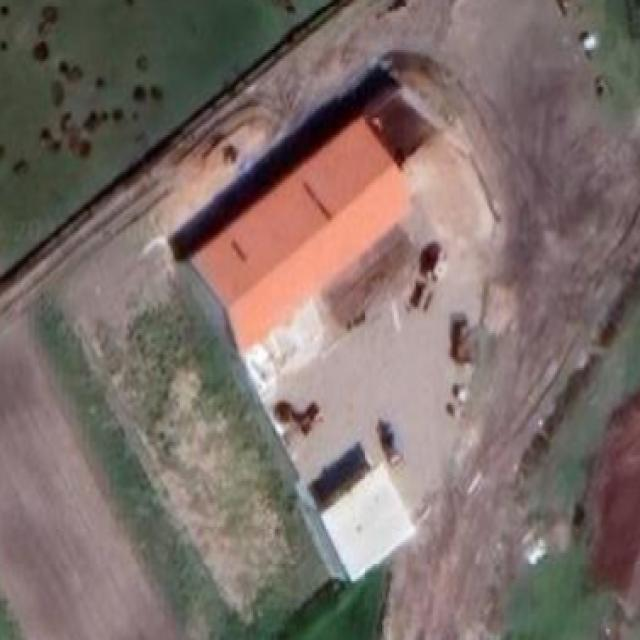Batiment: (192, 115, 406, 350), (321, 463, 415, 579)
